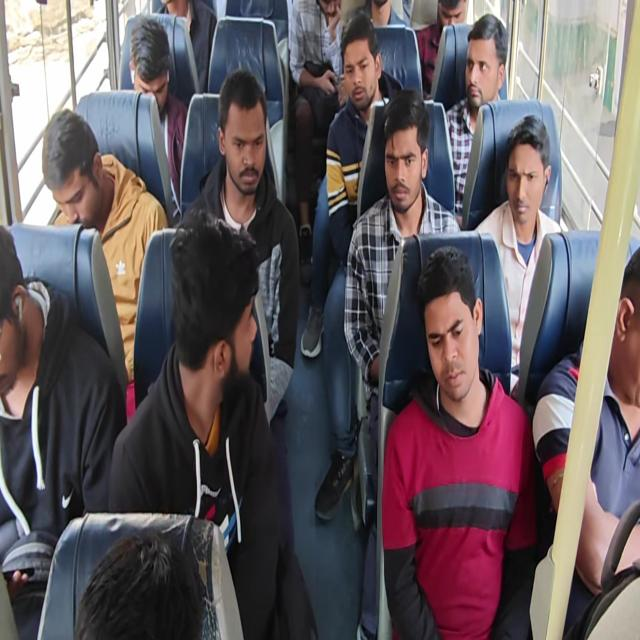person: (1, 1, 638, 638), (107, 207, 318, 638), (343, 88, 461, 637), (381, 244, 538, 638), (0, 223, 127, 638), (178, 68, 300, 434), (532, 245, 639, 638), (300, 12, 403, 358), (41, 108, 169, 384), (474, 114, 564, 396), (288, 0, 347, 284), (74, 529, 204, 639), (444, 13, 508, 222), (128, 18, 188, 216), (158, 0, 217, 93), (413, 0, 469, 97), (355, 0, 408, 28)
